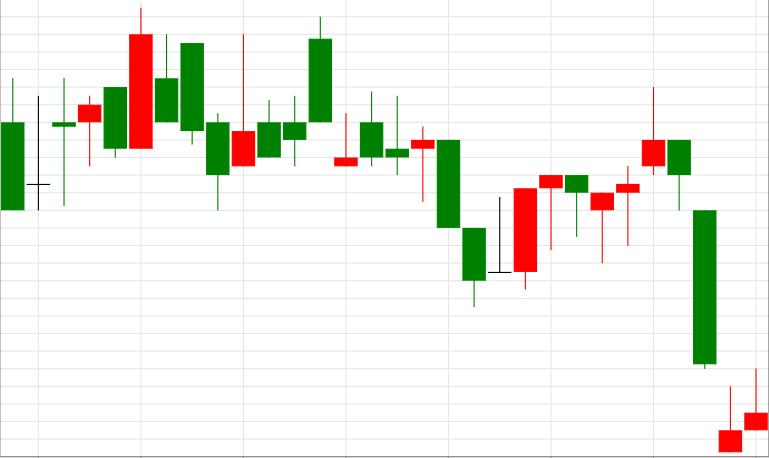shooting_star_fall: (462, 88, 665, 306)
